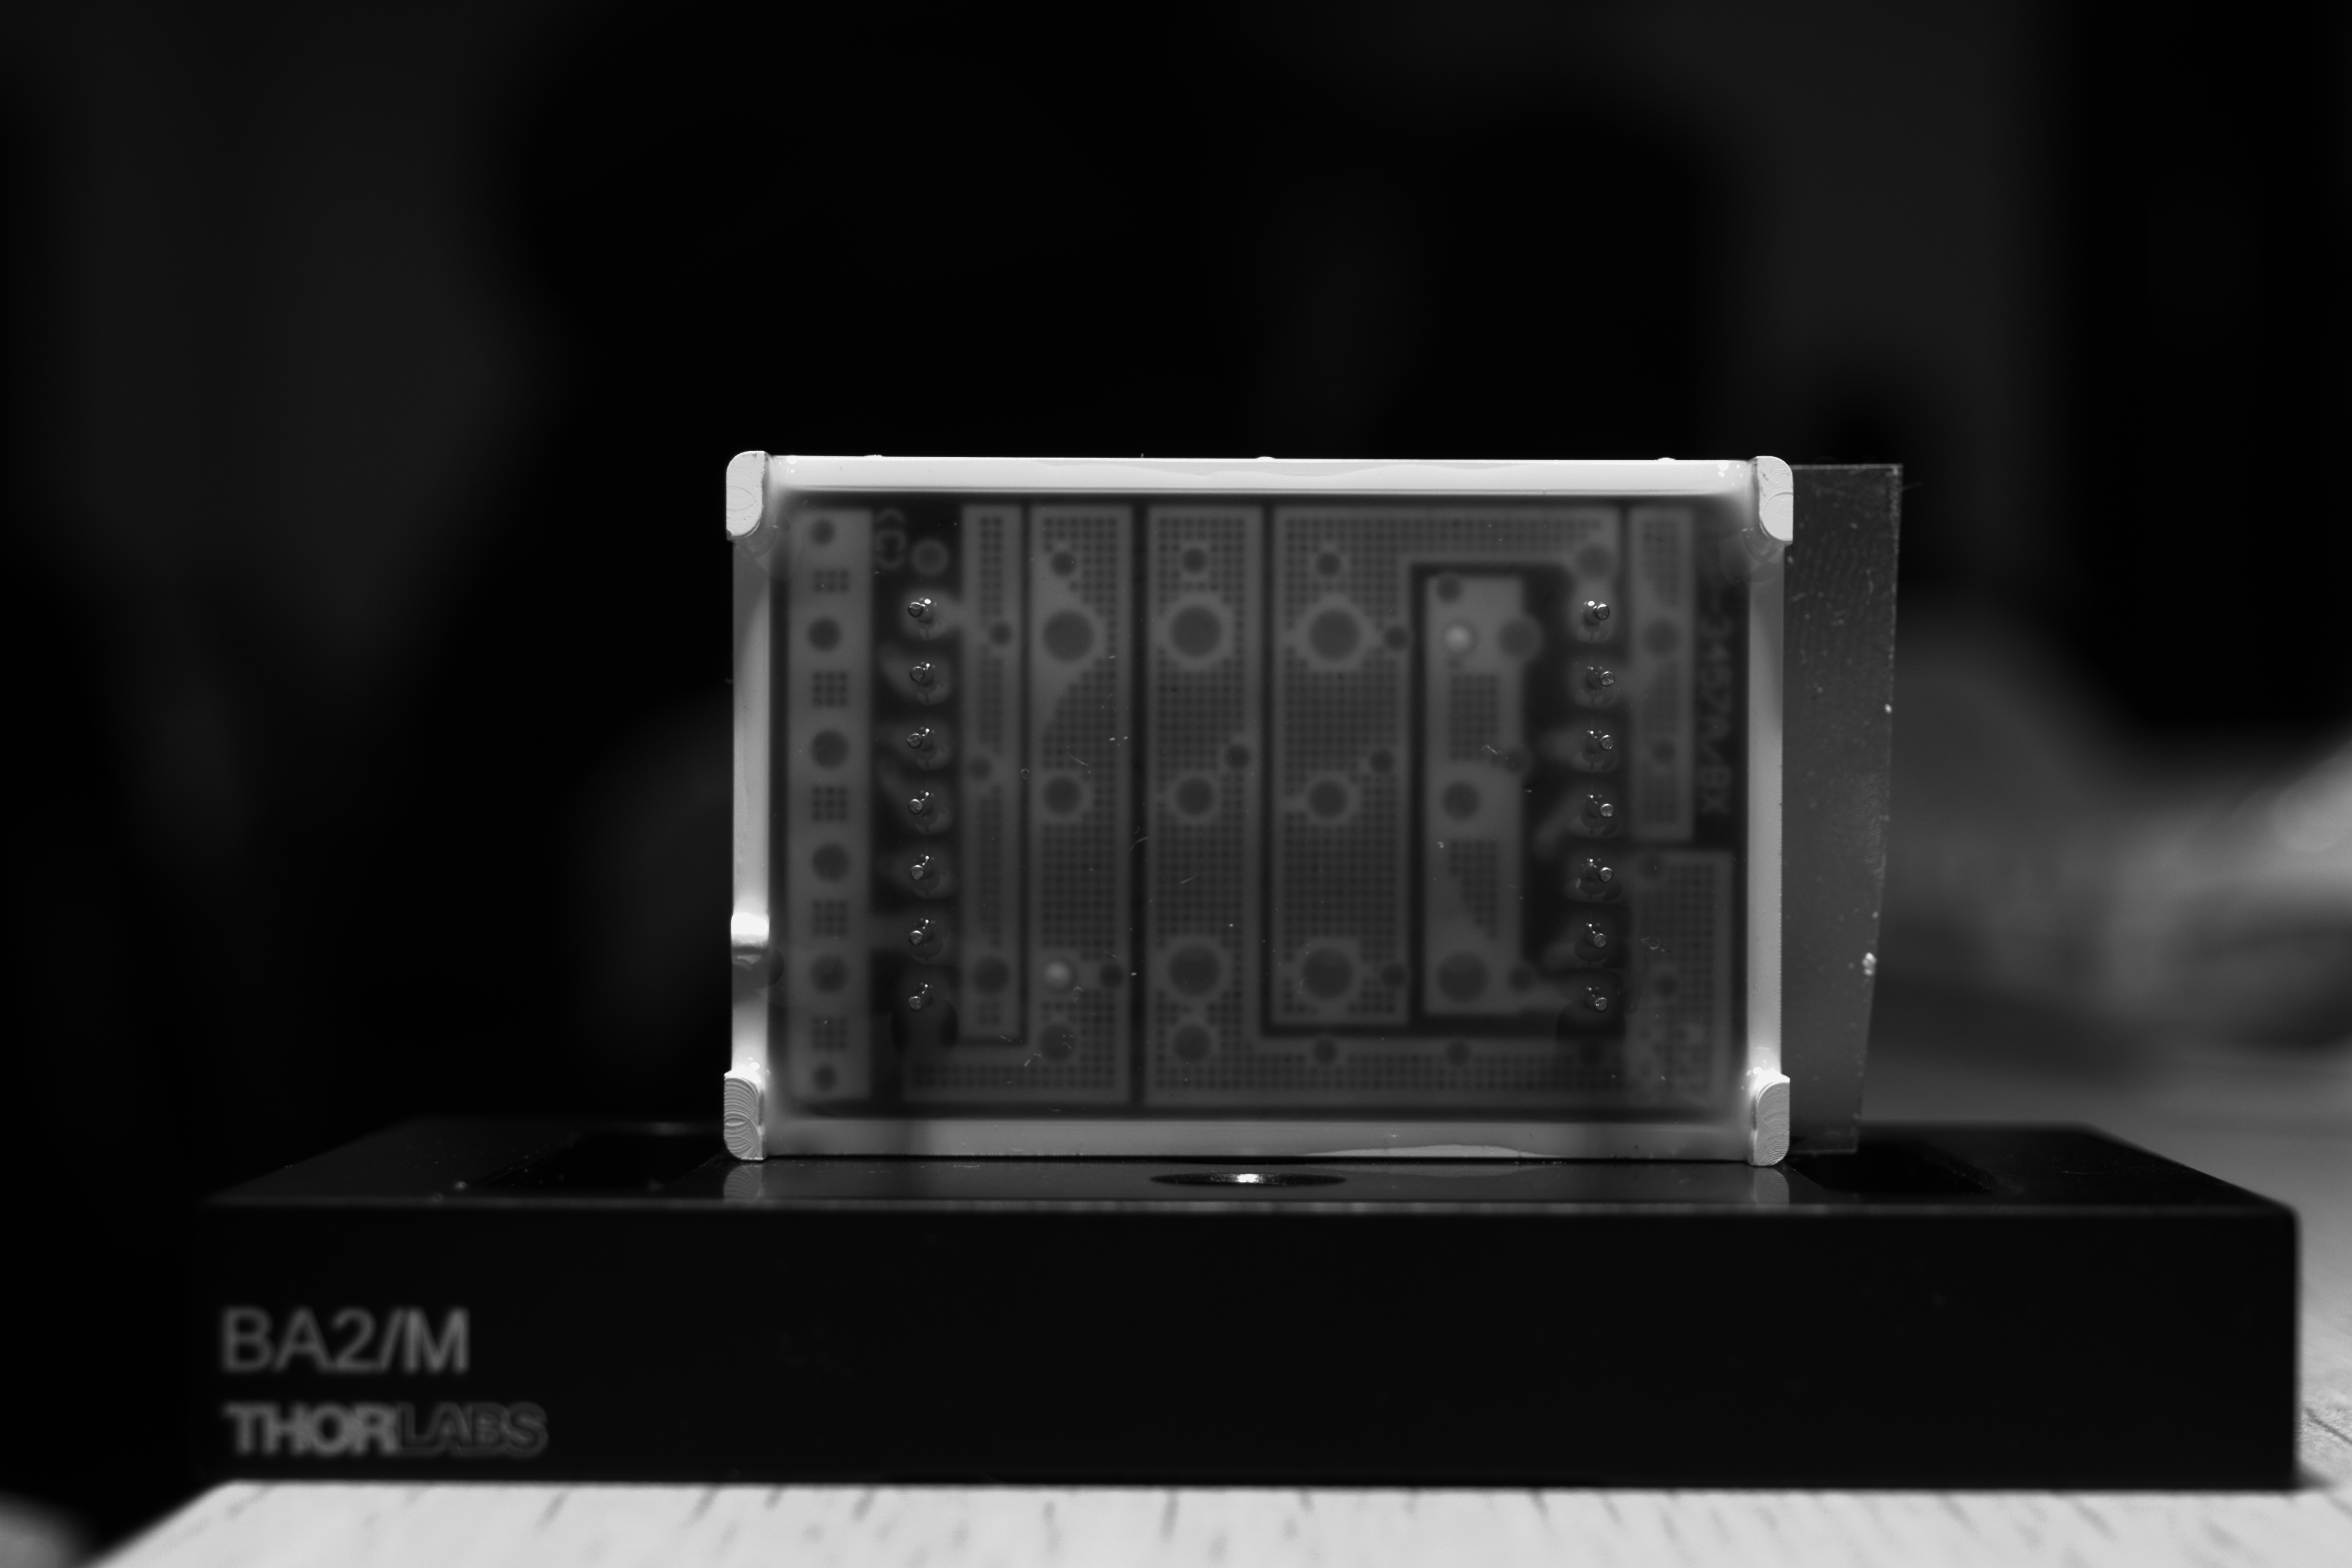pin_inclined: (1575, 658, 1629, 703)
